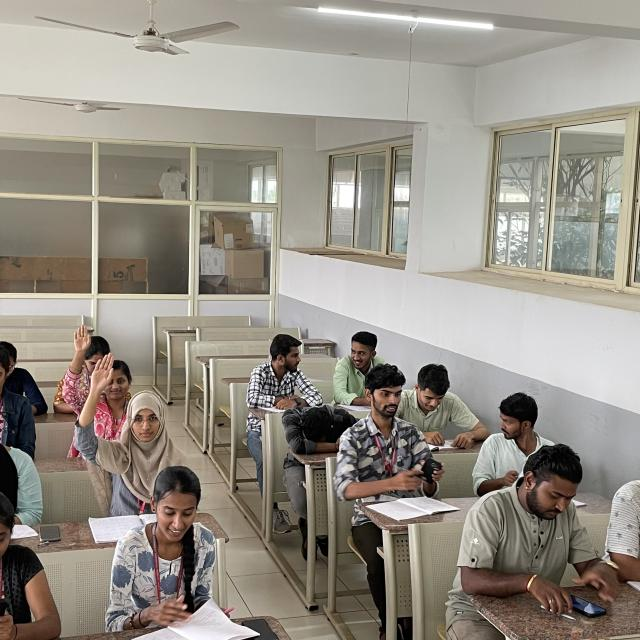Hand Rising: (75, 356, 179, 506), (52, 321, 134, 427)
Reading: (98, 465, 226, 636)
Sleeping: (274, 400, 363, 461)
Using Phone: (455, 445, 628, 610), (342, 366, 447, 508)
